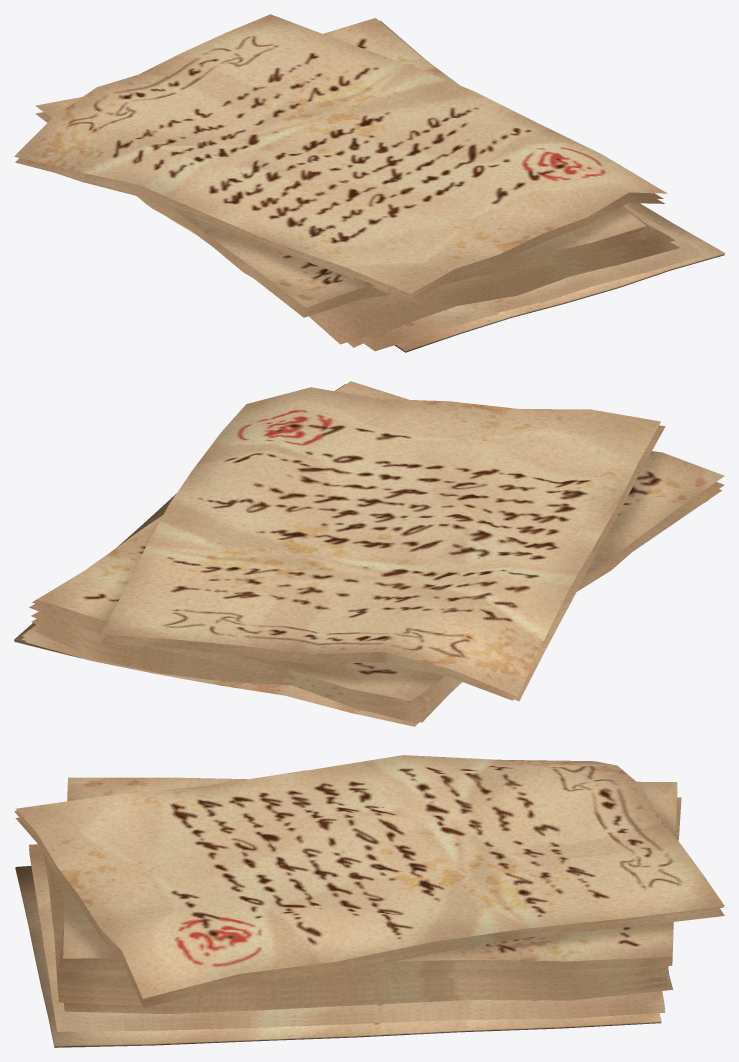
File: sb_obj_indoor008_Paperwork01.fbx
The picture shows the model from 3 angles, top to bottom: view 1: azimuth 30°, elevation 25°; view 2: azimuth 150°, elevation 25°; view 3: azimuth 270°, elevation 25°; orthographic projection. The views are drawn at different scales.
Parts seen in each view (by area): view 1: papers; view 2: papers; view 3: papers.
Boxes of the visible parts, x1,y1,x2,y2 form: papers: [14, 14, 724, 352]; papers: [14, 381, 724, 726]; papers: [14, 755, 724, 1047].
Bounding box in the file's own units: 0.2893 × 0.0408 × 0.3466.
